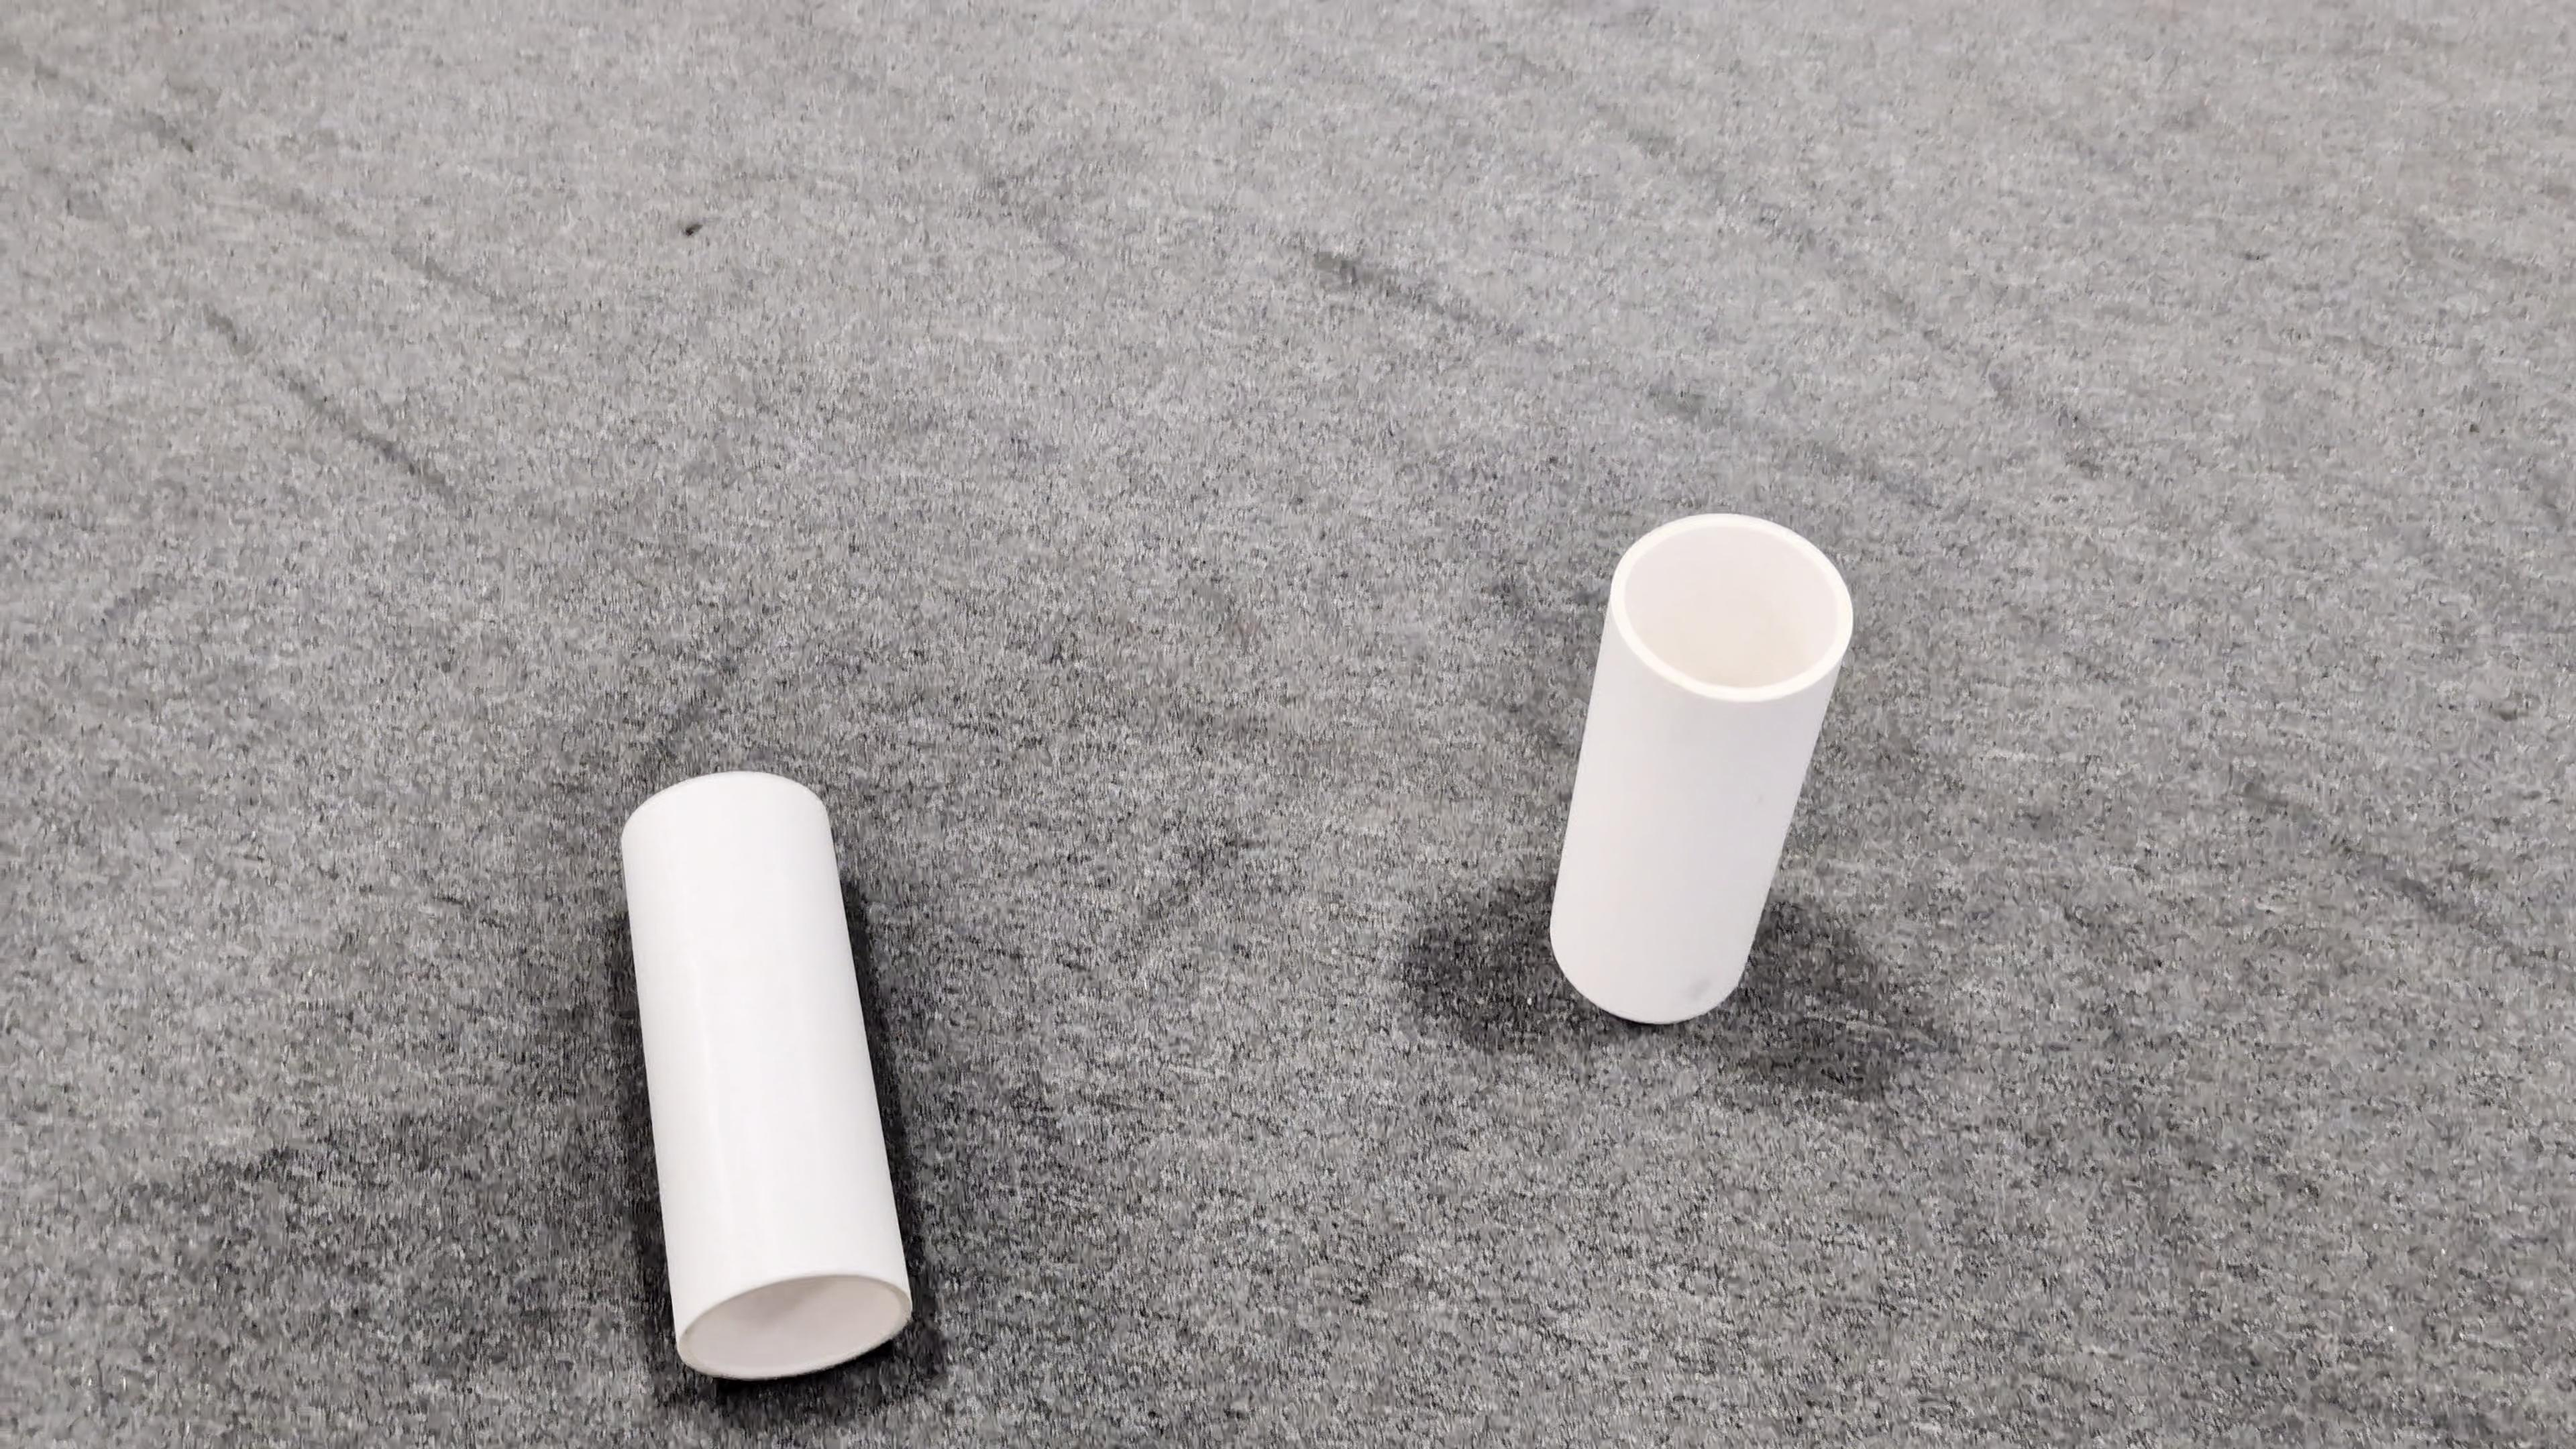coral: (619, 768, 915, 1380), (1545, 513, 1854, 1023)
